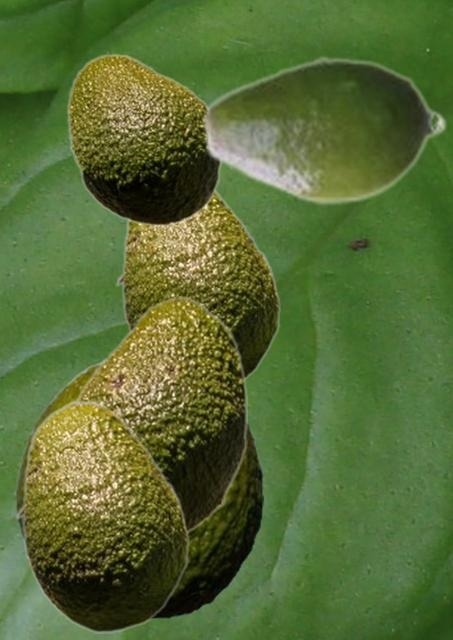avocado: (15, 357, 262, 618), (72, 296, 246, 534), (15, 400, 189, 632), (200, 54, 447, 206), (115, 188, 280, 379), (66, 53, 222, 226)
